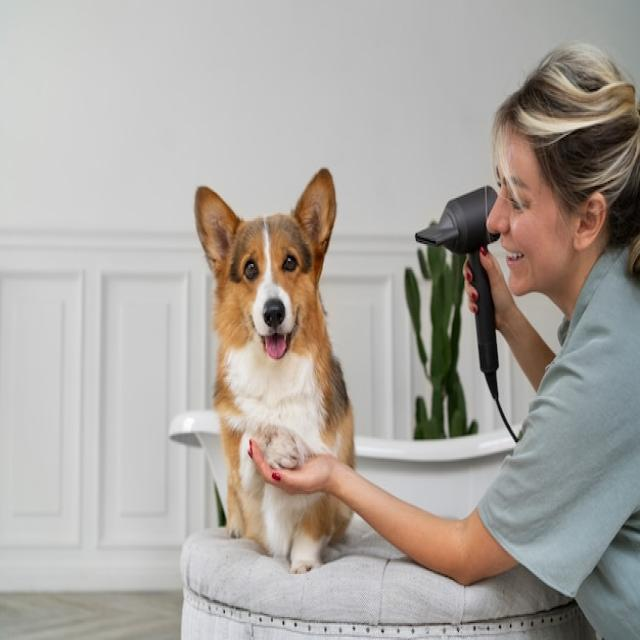Dog: (193, 168, 354, 573)
Person: (246, 38, 639, 640)
